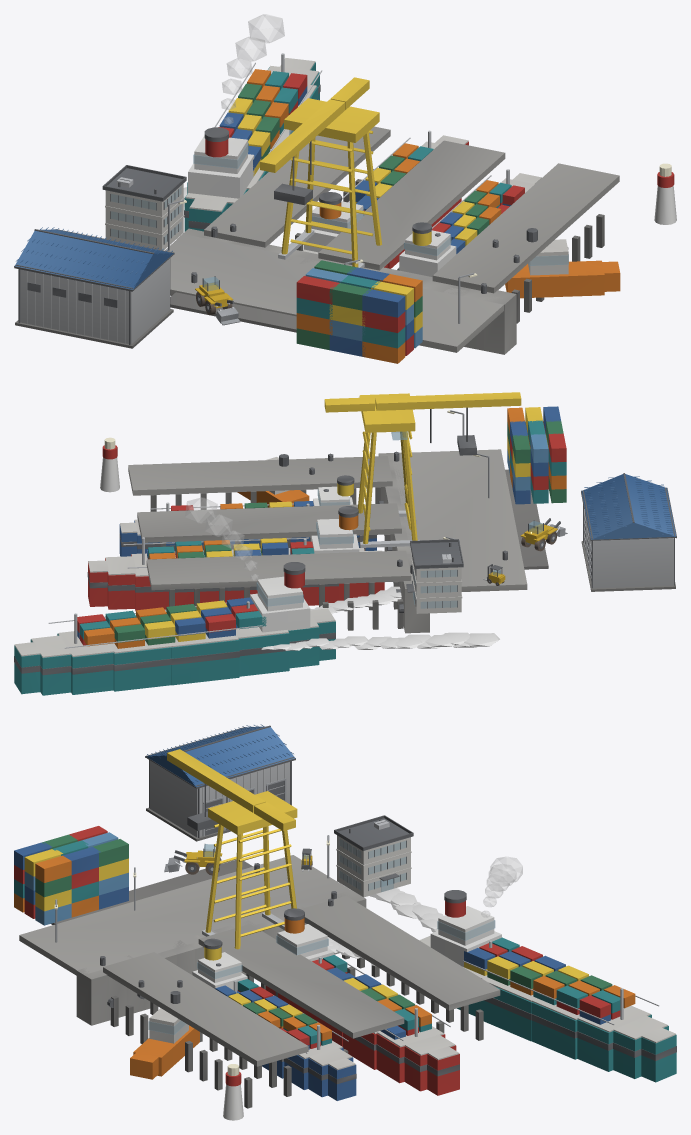
The model's file is Port_P3.fbx.
The picture shows the model from 3 angles, top to bottom: view 1: azimuth 30°, elevation 25°; view 2: azimuth 150°, elevation 25°; view 3: azimuth 270°, elevation 25°; orthographic projection. The views are drawn at different scales.
Parts seen in each view (by area): view 1: Port.Shed, Port.Apron, Port.ShipOut, Port.Pier2, Port.Containers, Port.Crane0, Port.Pier1, Port.Pier0, Port.Control, Port.Ship1, Port.Tug, Port.Ship0 (+4 smaller); view 2: Port.ShipOut, Port.Apron, Port.Ship0, Port.Shed, Port.Pier0, Port.Pier2, Port.Pier1, Port.Crane0, Port.Containers, Port.Control, Port.Wake, Port.Ship1 (+5 smaller); view 3: Port.ShipOut, Port.Apron, Port.Pier2, Port.Ship0, Port.Pier0, Port.Shed, Port.Containers, Port.Crane0, Port.Pier1, Port.Ship1, Port.Control, Port.QuayWall (+5 smaller).
Part boxes in pixels (x1,y1,x2,y2): Port.Shed: (14,227,174,348); Port.Apron: (165,234,503,352); Port.ShipOut: (184,53,322,231); Port.Pier2: (432,163,619,323); Port.Containers: (296,260,422,363); Port.Crane0: (260,77,382,268); Port.Pier1: (318,140,505,270); Port.Pier0: (204,126,390,250); Port.Control: (102,165,186,250); Port.Ship1: (399,169,541,276); Port.Tug: (505,228,620,298); Port.Ship0: (302,130,468,268); Port.ShipOut: (14,562,335,695); Port.Apron: (391,449,548,591); Port.Ship0: (87,506,384,611); Port.Shed: (581,473,676,591); Port.Pier0: (146,550,410,630); Port.Pier2: (128,456,392,511); Port.Pier1: (137,503,401,551); Port.Crane0: (324,392,521,547); Port.Containers: (507,406,566,504); Port.Control: (406,539,463,613); Port.Wake: (261,586,499,650); Port.Ship1: (119,475,376,556); Port.ShipOut: (419,890,676,1082); Port.Apron: (19,855,356,975); Port.Pier2: (103,952,308,1108); Port.Ship0: (265,908,459,1095); Port.Pier0: (300,896,500,1040); Port.Shed: (145,724,295,841); Port.Containers: (14,826,128,925); Port.Crane0: (167,749,297,949); Port.Pier1: (198,924,404,1053); Port.Ship1: (192,938,356,1100); Port.Control: (334,815,413,897); Port.QuayWall: (76,890,366,1025).
Bounding box in the file's own units: 13393 × 4068 × 12724.
